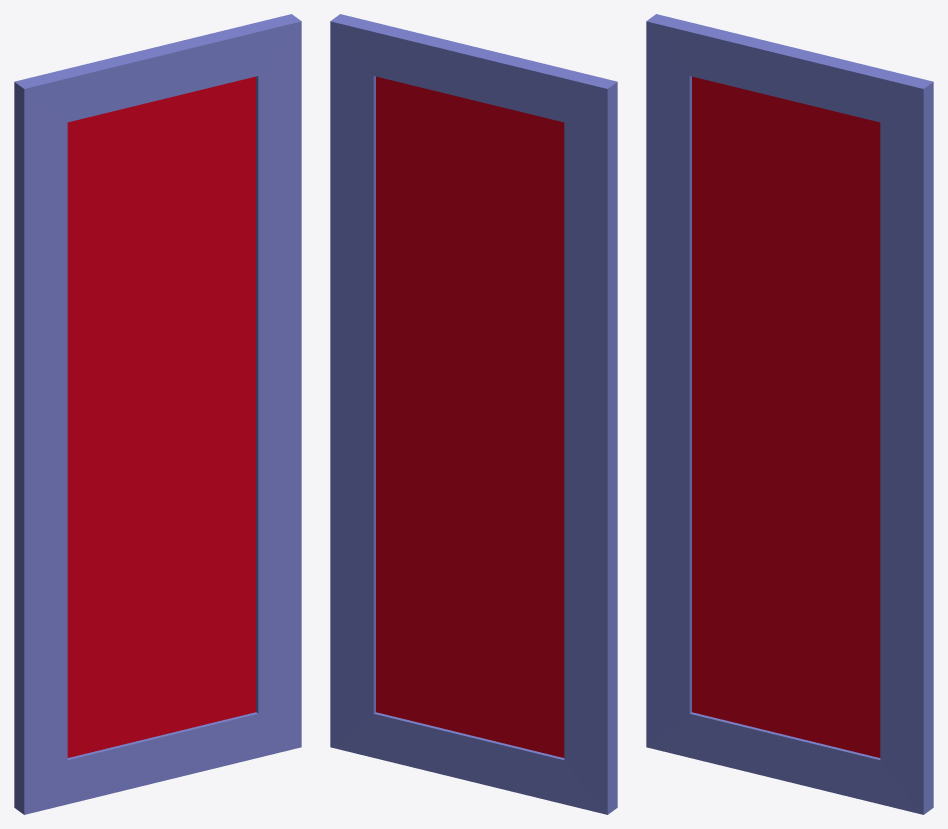
The model's file is dvere2.fbx.
The picture shows the model from 3 angles, left to right: view 1: azimuth 30°, elevation 25°; view 2: azimuth 150°, elevation 25°; view 3: azimuth 330°, elevation 25°; orthographic projection.
Parts seen in each view (by area): view 1: Dvere2; view 2: Dvere2; view 3: Dvere2.
Boxes of the visible parts, x1,y1,x2,y2 form: Dvere2: (14,14,301,814); Dvere2: (330,14,617,814); Dvere2: (646,14,933,814).
Bounding box in the file's own units: 80 × 200 × 5.
